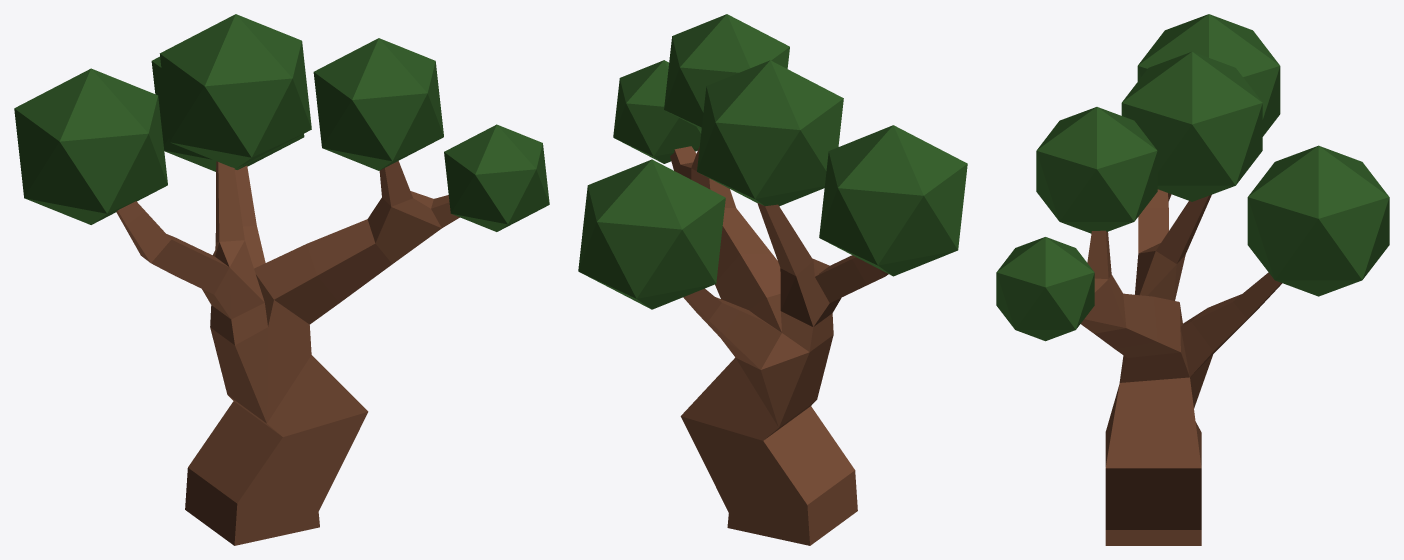
Rendered from Tree.fbx.
3 renders of one model, left to right at view 1: azimuth 30°, elevation 25°; view 2: azimuth 150°, elevation 25°; view 3: azimuth 270°, elevation 25°, orthographic. The views are drawn at different scales.
Visible parts, largest first — view 1: Vert.001, Icosphere.004, Icosphere.002, Icosphere.001, Icosphere, Icosphere.003; view 2: Vert.001, Icosphere.004, Icosphere.003, Icosphere.002, Icosphere.001, Icosphere; view 3: Vert.001, Icosphere.003, Icosphere.002, Icosphere.001, Icosphere, Icosphere.004.
Part boxes in pixels (left/top/right/bottom): Vert.001: left=116, top=161, right=459, bottom=545; Icosphere.004: left=14, top=68, right=167, bottom=224; Icosphere.002: left=159, top=14, right=311, bottom=168; Icosphere.001: left=313, top=38, right=443, bottom=170; Icosphere: left=444, top=124, right=549, bottom=231; Icosphere.003: left=151, top=56, right=304, bottom=171; Vert.001: left=670, top=146, right=888, bottom=545; Icosphere.004: left=819, top=125, right=967, bottom=276; Icosphere.003: left=578, top=159, right=725, bottom=309; Icosphere.002: left=697, top=60, right=843, bottom=206; Icosphere.001: left=664, top=14, right=789, bottom=128; Icosphere: left=613, top=60, right=701, bottom=163; Vert.001: left=1081, top=189, right=1282, bottom=545; Icosphere.003: left=1247, top=145, right=1389, bottom=296; Icosphere.002: left=1121, top=51, right=1262, bottom=201; Icosphere.001: left=1036, top=107, right=1157, bottom=233; Icosphere: left=996, top=237, right=1094, bottom=341; Icosphere.004: left=1137, top=14, right=1280, bottom=136.
Bounding box in the file's own units: 188 × 203 × 152.
